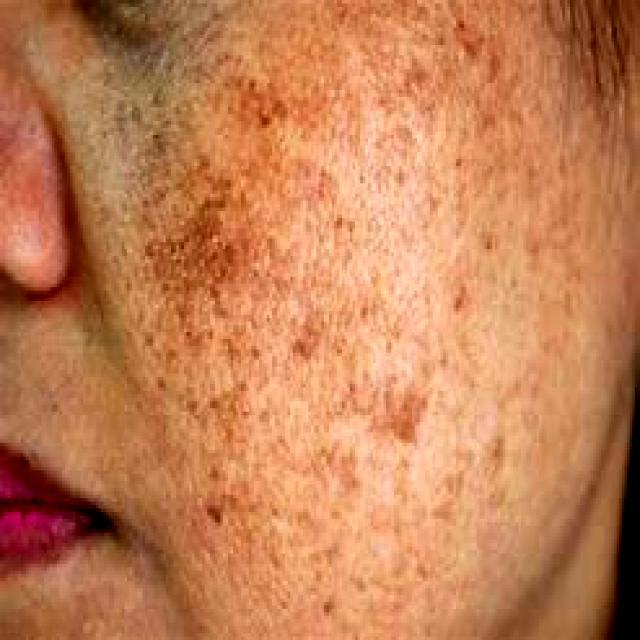pigmentation: (150, 91, 374, 416)
